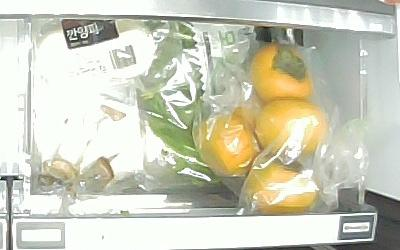persimmon_vinyl: (192, 109, 259, 176), (255, 98, 330, 157), (249, 43, 316, 101), (250, 162, 319, 216)
